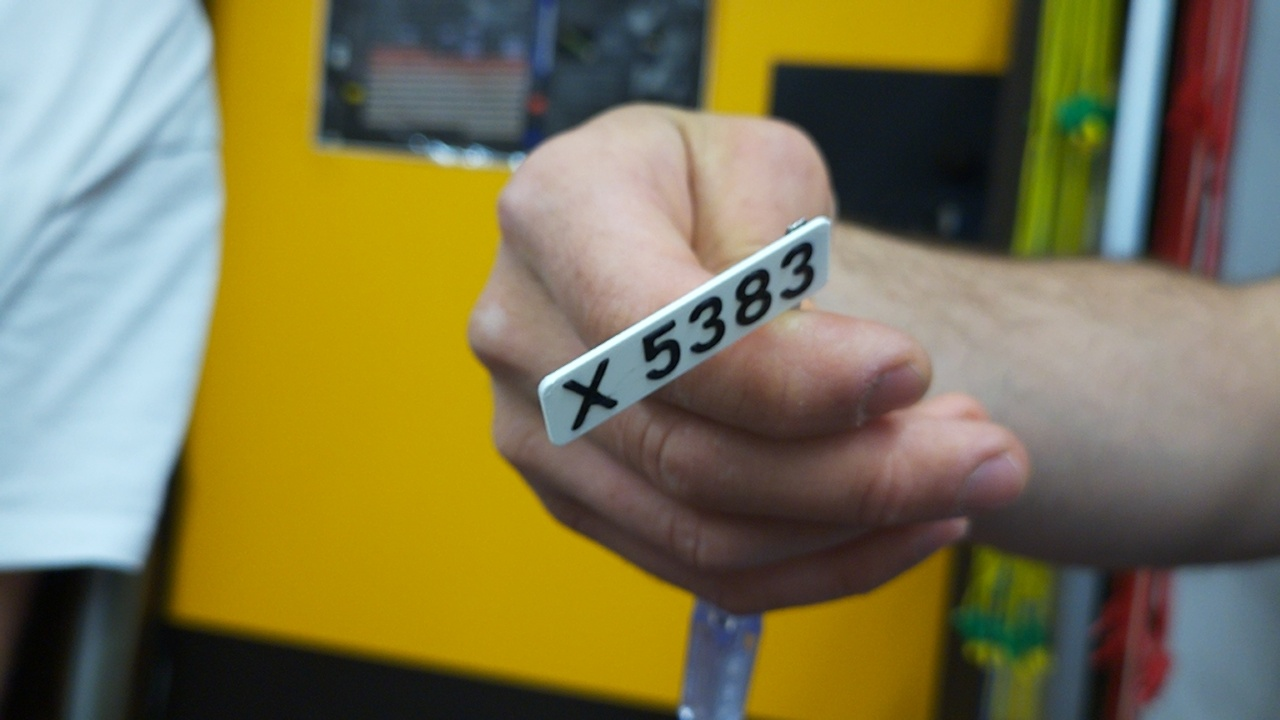license_plate: (535, 213, 833, 450)
